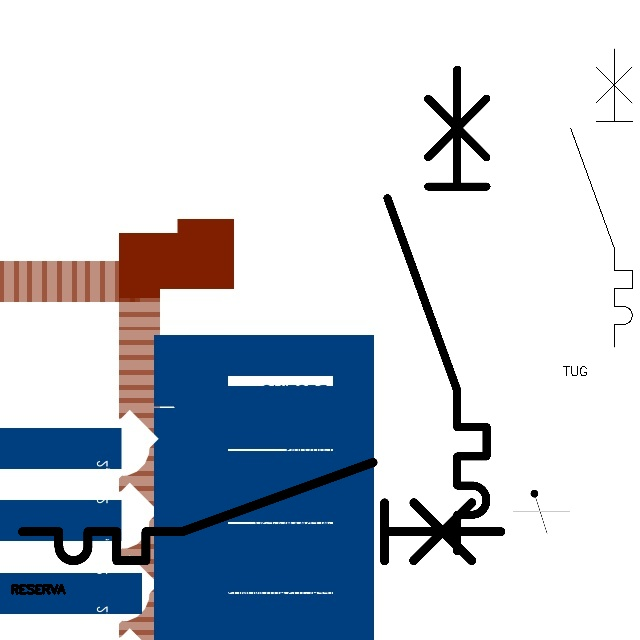interruptor_termomagnetico: (375, 57, 499, 564), (10, 450, 513, 573), (563, 41, 640, 355)
